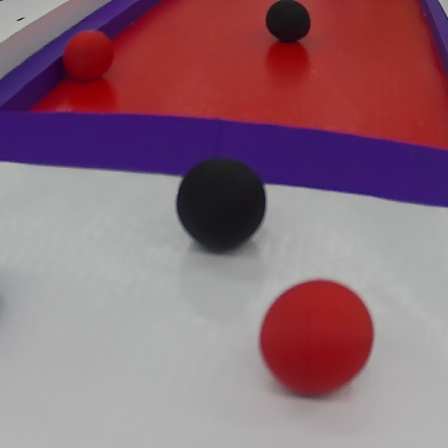black: (177, 161, 271, 260), (259, 0, 318, 45)
red: (255, 279, 374, 399), (58, 24, 118, 84)
red_aim: (1, 0, 448, 212)
